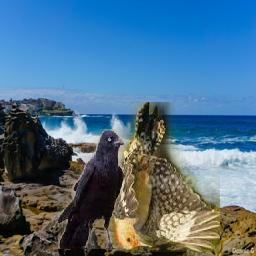Crow: (58, 129, 124, 249)
Woodpecker: (108, 102, 220, 252)
